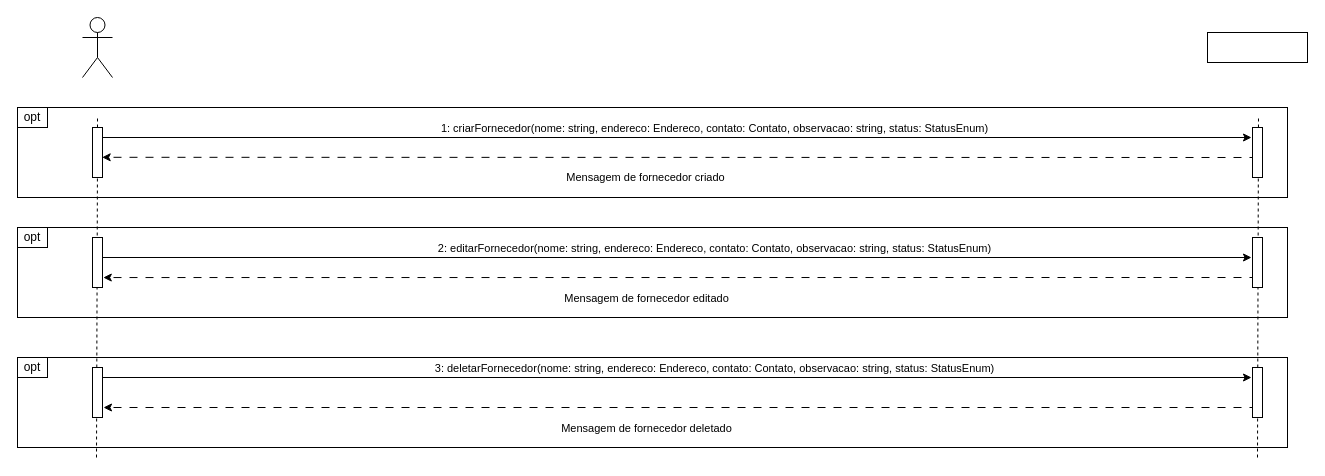
The diagram is 1325 pixels wide and 476 high, and some of its shapes have lost their labels. Here are the shapes that lost their labels. From the top down, the centre of each, then its label:
the point at 97,47: : Administrador
the point at 1257,47: Sistema
